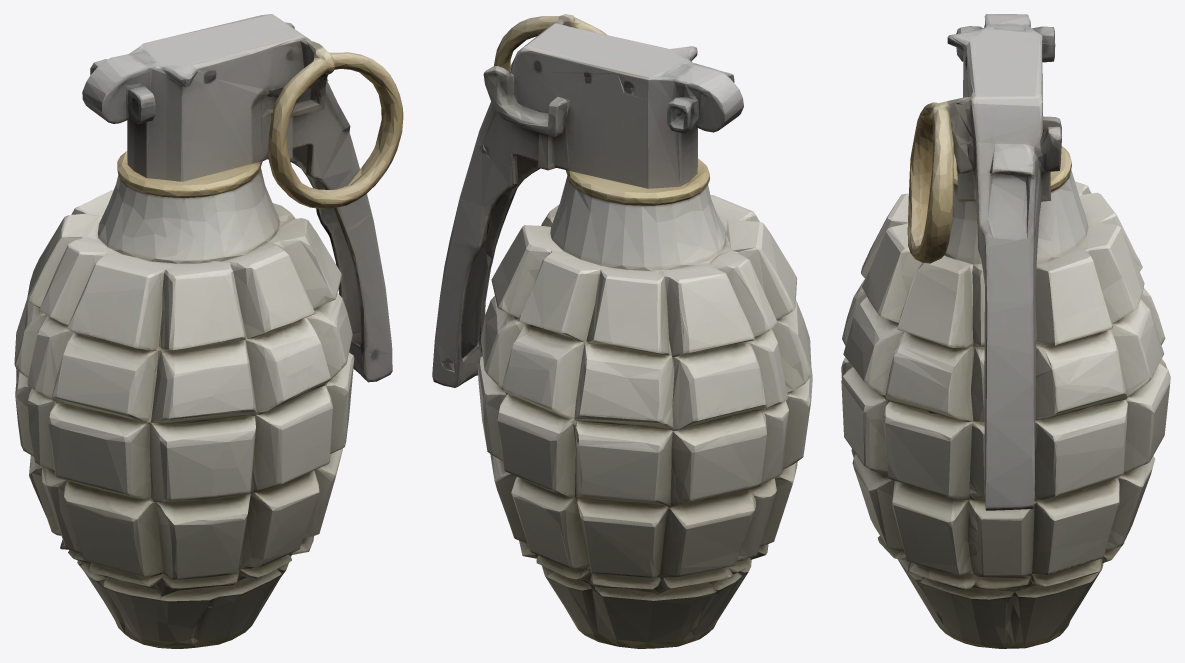
The model's file is white_grenade.glb.
3 views of the same model, side by side, from view 1: azimuth 30°, elevation 25°; view 2: azimuth 150°, elevation 25°; view 3: azimuth 270°, elevation 25° (orthographic).
Visible parts, largest first — view 1: geometry_0; view 2: geometry_0; view 3: geometry_0.
Boxes of the visible parts, x1,y1,x2,y2 form: geometry_0: (14, 14, 403, 648); geometry_0: (432, 14, 812, 648); geometry_0: (841, 14, 1170, 648).
Size of the model in its own units: 0.6421 by 0.9999 by 0.519.
Materials: 1 (1 with a texture image).
